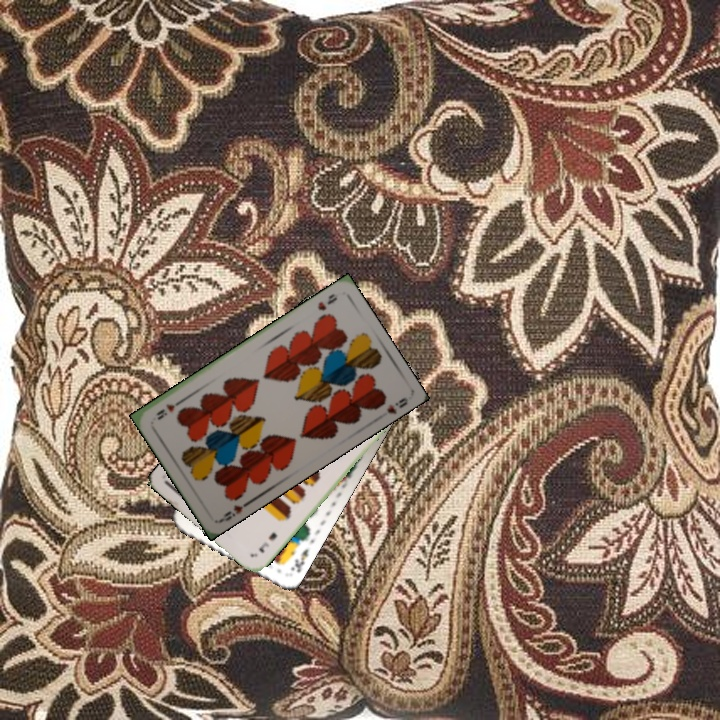E7: (254, 528, 280, 556)
EK: (287, 544, 311, 575)
H9: (216, 497, 253, 525), (313, 289, 340, 313)
